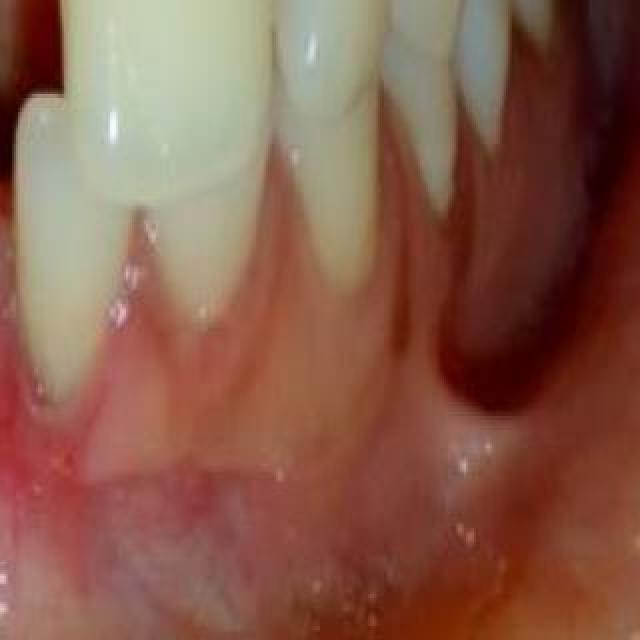spacing: (0, 0, 118, 170), (0, 92, 52, 278)
